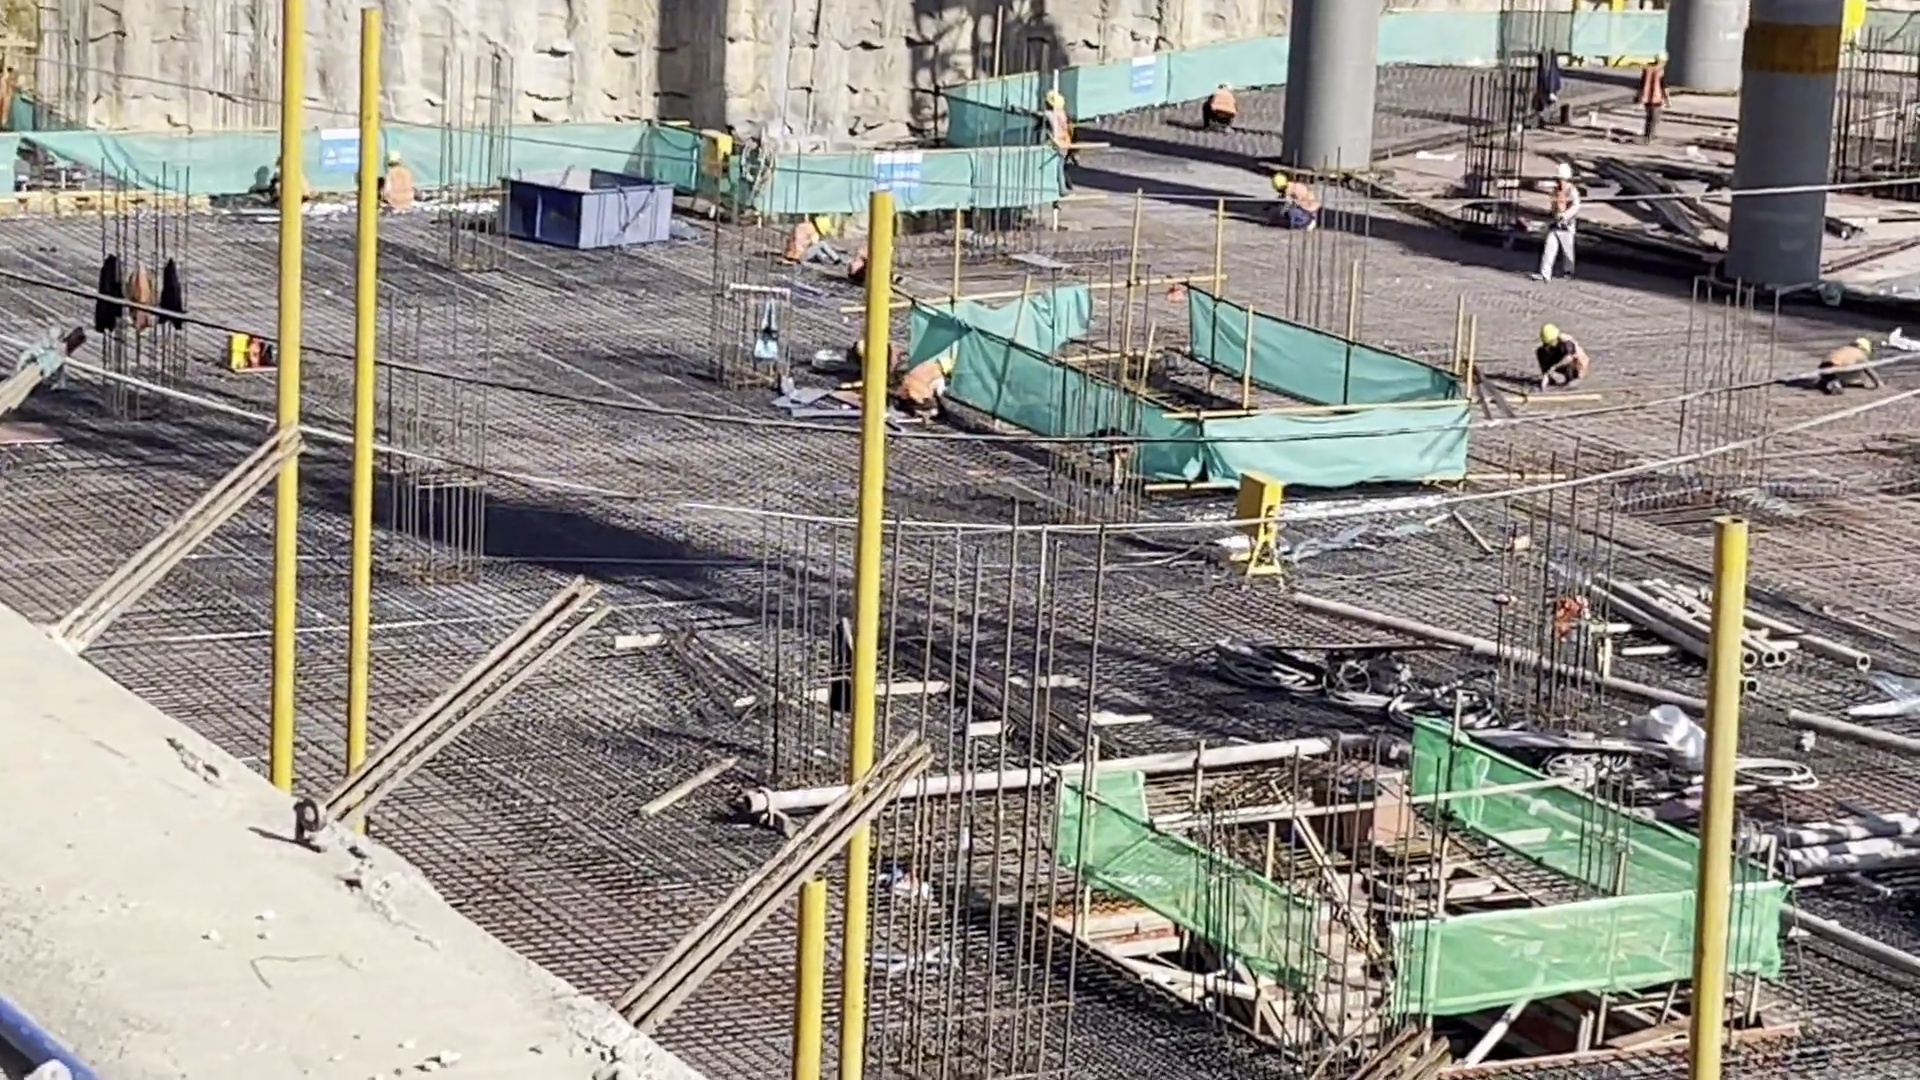helmet: (1539, 323, 1560, 342), (814, 214, 832, 234), (1856, 338, 1872, 354), (1554, 165, 1573, 178), (939, 356, 952, 372), (1272, 175, 1286, 190)
person: (1538, 162, 1573, 283), (1819, 335, 1881, 393), (1536, 324, 1592, 385), (786, 215, 838, 273), (904, 356, 954, 417), (1267, 174, 1316, 230), (379, 150, 417, 216), (1638, 53, 1667, 135), (1201, 80, 1235, 129)
vest: (904, 364, 942, 400), (1638, 60, 1661, 115), (1825, 346, 1863, 376), (789, 227, 816, 268), (392, 168, 415, 211), (1286, 180, 1315, 212), (1206, 88, 1231, 116)
